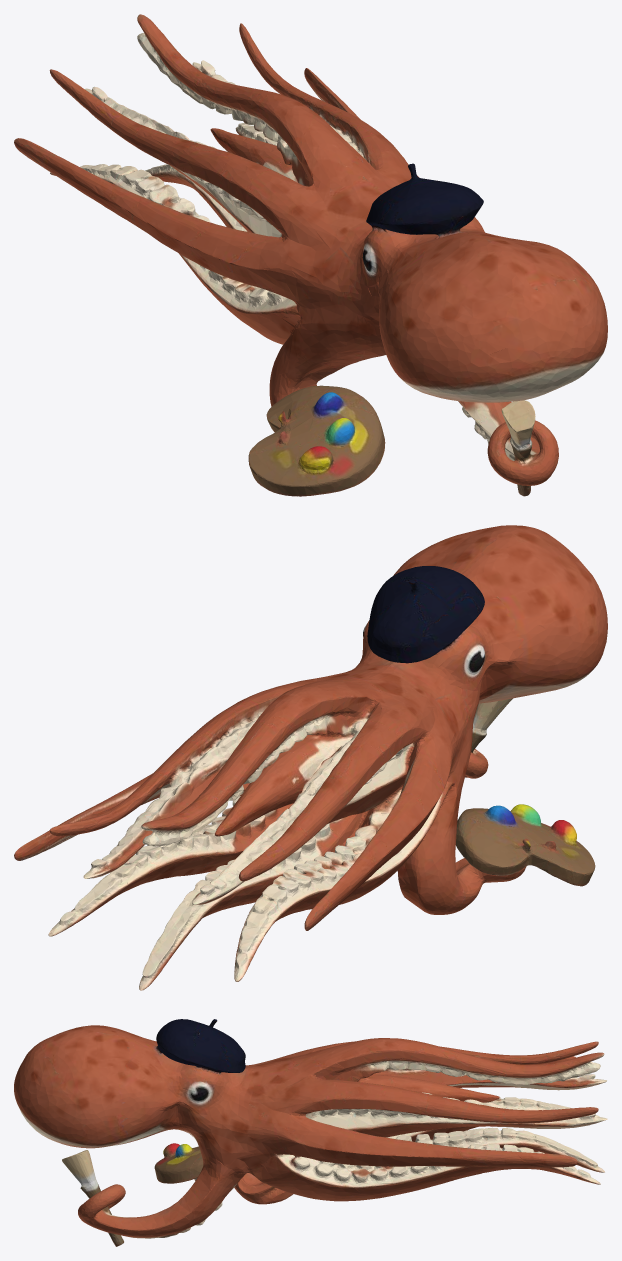
File: meshy-octopus.glb
3 renders of one model, top to bottom at view 1: azimuth 30°, elevation 25°; view 2: azimuth 150°, elevation 25°; view 3: azimuth 270°, elevation 25°, orthographic. The views are drawn at different scales.
Visible parts, largest first — view 1: mesh_node; view 2: mesh_node; view 3: mesh_node.
Part boxes in pixels (x1=…): mesh_node: x1=14, y1=14, x2=607, y2=496; mesh_node: x1=14, y1=525, x2=607, y2=990; mesh_node: x1=14, y1=1019, x2=607, y2=1246.
Bounding box in the file's own units: 0.7193 × 0.6394 × 1.63.
Materials: 1 (1 with a texture image).
